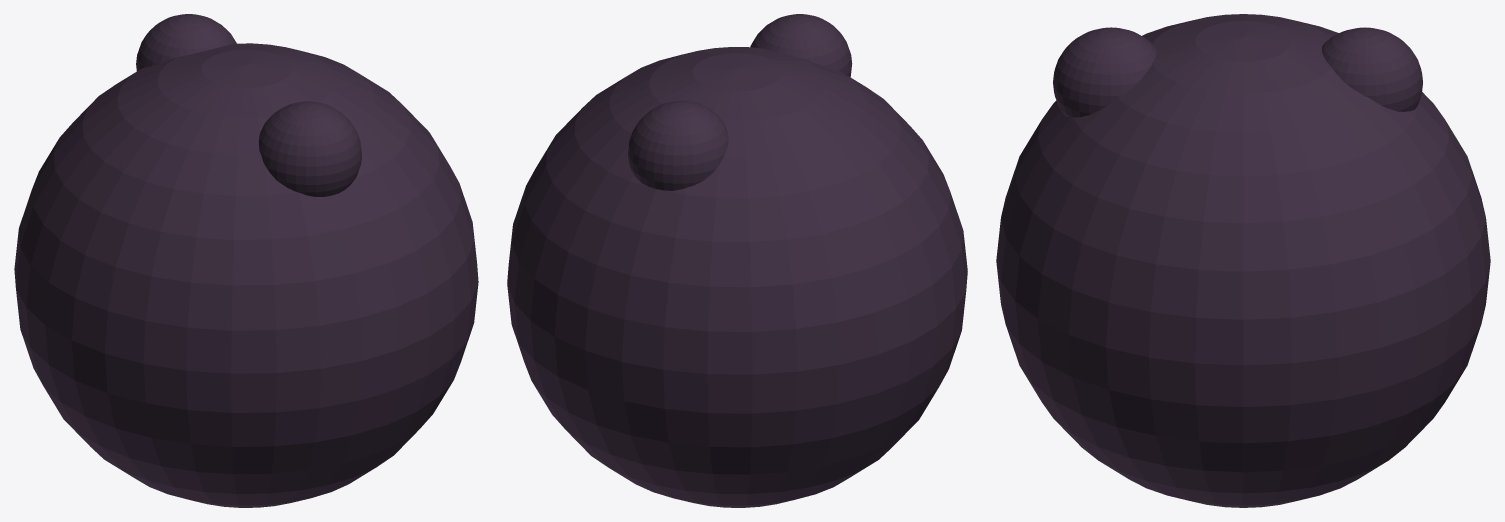
File: maru.obj
The picture shows the model from 3 angles, left to right: view 1: azimuth 30°, elevation 25°; view 2: azimuth 150°, elevation 25°; view 3: azimuth 270°, elevation 25°; orthographic projection. The views are drawn at different scales.
Visible parts, largest first — view 1: 球.002; view 2: 球.002; view 3: 球.002.
Part boxes in pixels (x1,y1,x2,y2): 球.002: [14, 14, 478, 507]; 球.002: [507, 14, 967, 507]; 球.002: [996, 14, 1490, 507].
Bounding box in the file's own units: 2 × 2.02 × 2.
1 material, 1 textured.
